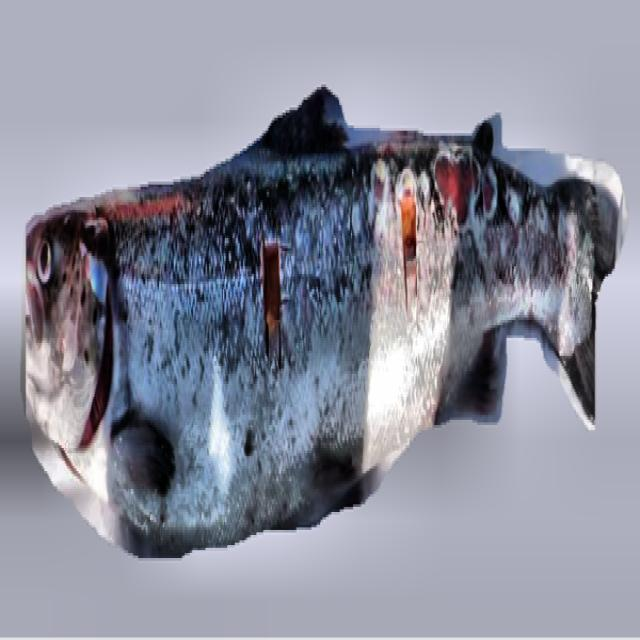mild_red: (92, 146, 606, 553)
wound: (433, 143, 499, 238), (258, 233, 290, 367), (396, 163, 422, 314), (366, 152, 390, 242)
